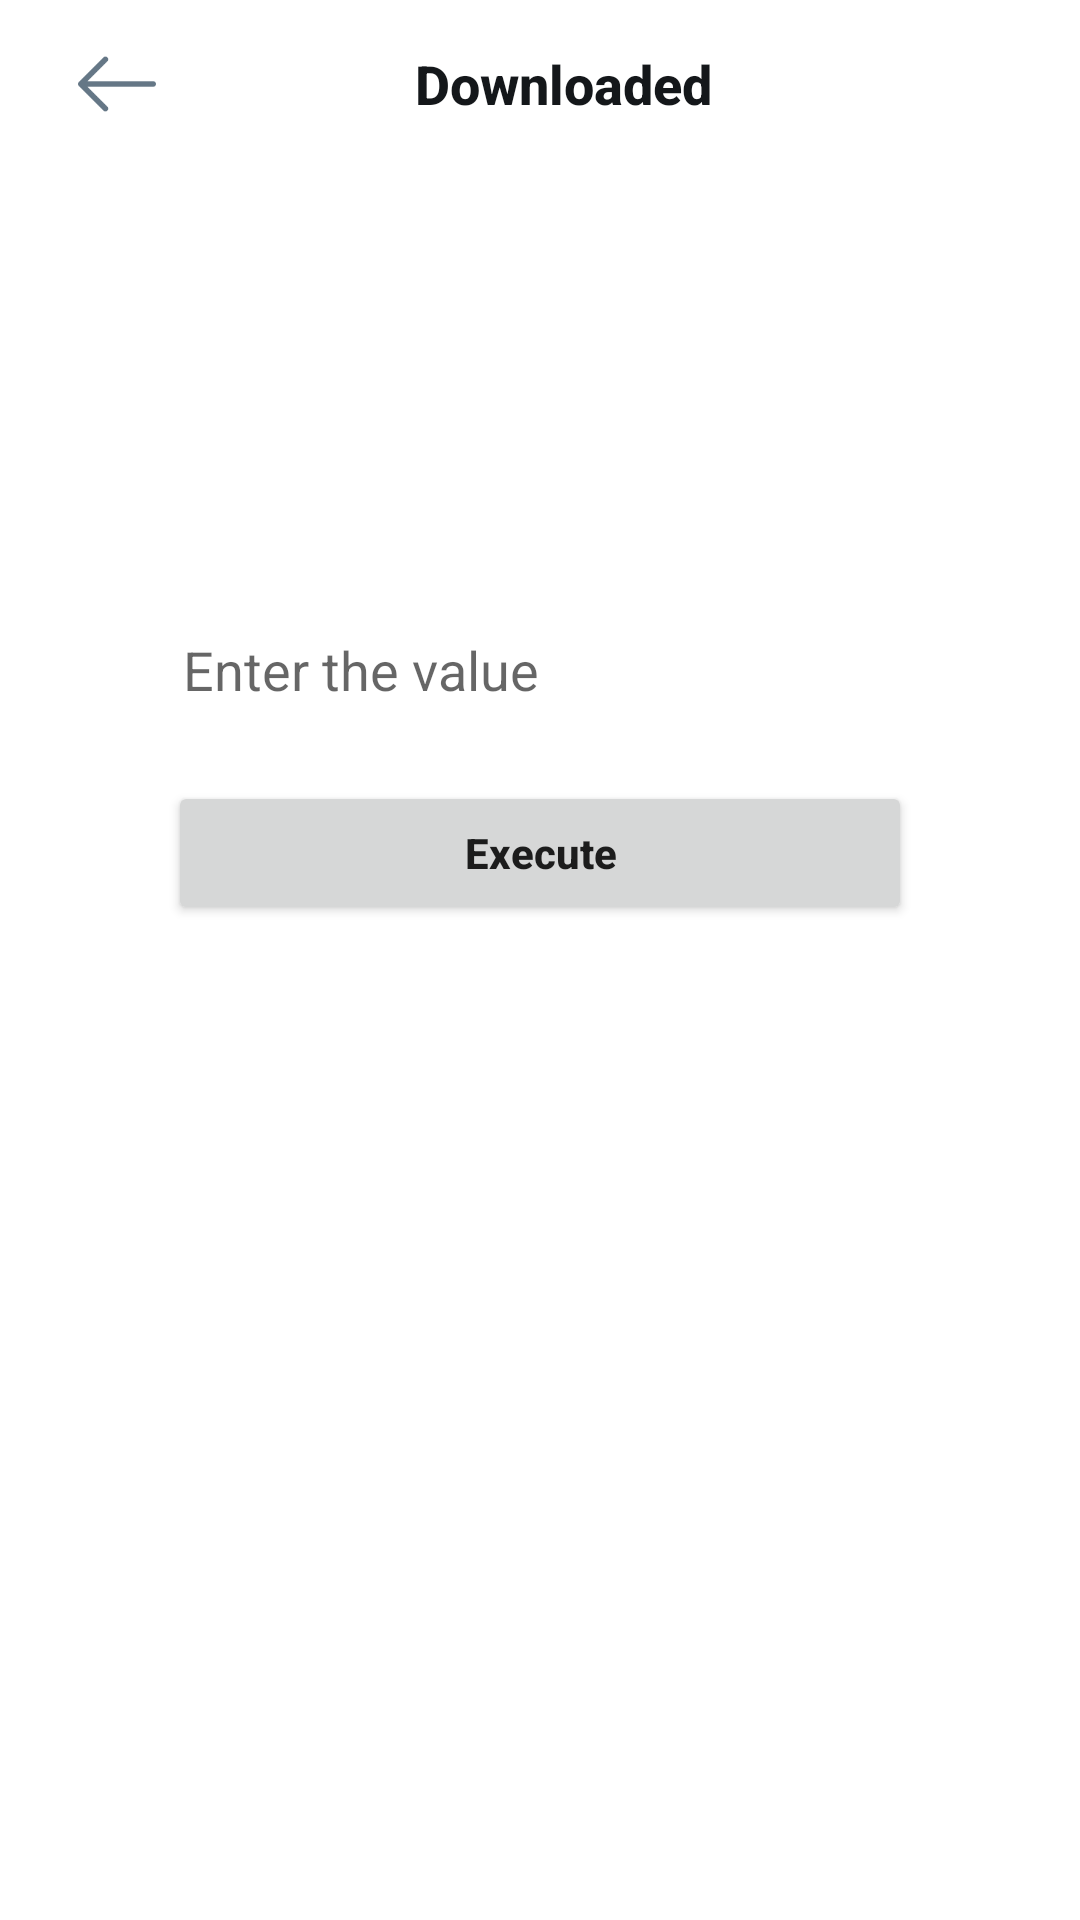

Named icons in this screenshot (1080px x 1920px) and their bounding boxes, (x1, y1, x2, y2):
back: (78, 56, 156, 112)
